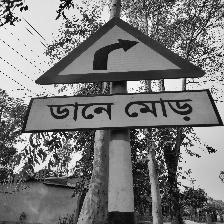Right-turn: (26, 14, 221, 133)
